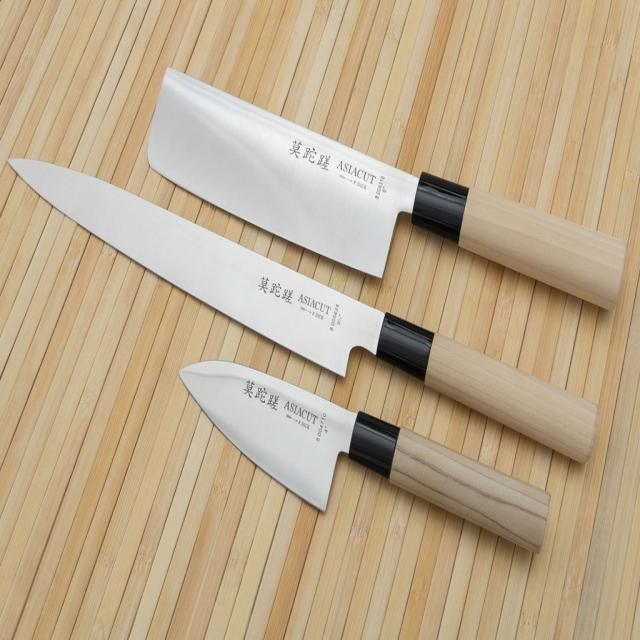Knife: (10, 161, 596, 462), (149, 69, 623, 308), (180, 361, 549, 551)
